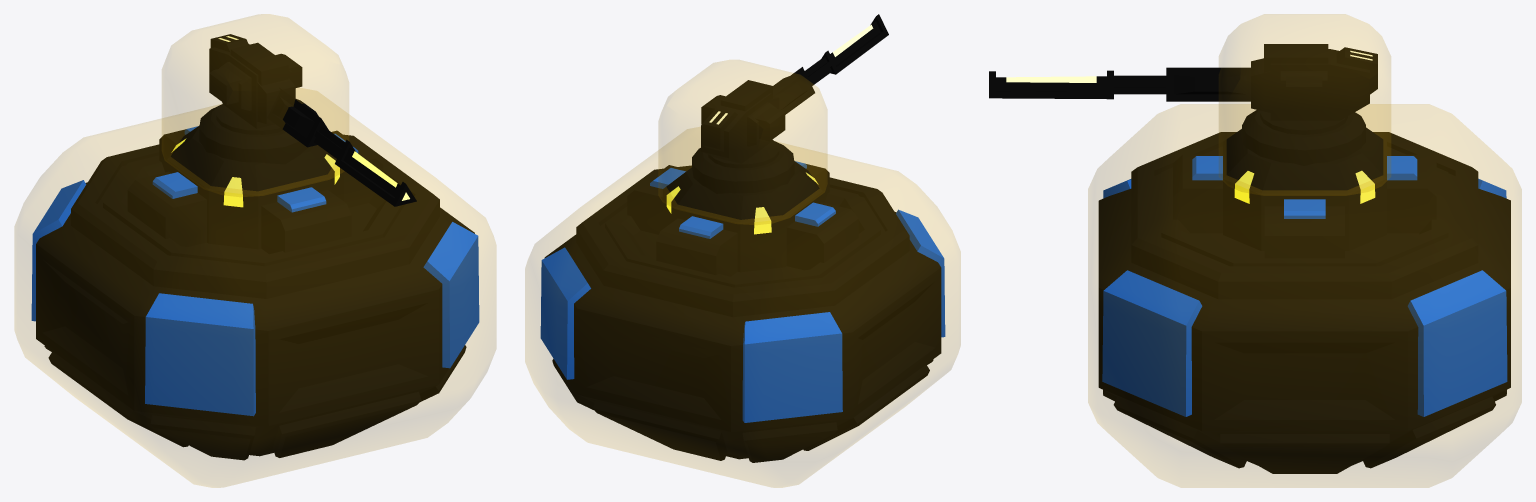
Rendered from 01_turret_dustPiercer.glb.
3 views of the same model, side by side, from view 1: azimuth 30°, elevation 25°; view 2: azimuth 150°, elevation 25°; view 3: azimuth 270°, elevation 25° (orthographic). The views are drawn at different scales.
Parts seen in each view (by area): view 1: 01_turretbase_burstgun_aegis, 01_turretbase_burstgun, 01_weapon_dustPiercer_body, 01_weapon_dustPiercer_barrel; view 2: 01_turretbase_burstgun_aegis, 01_turretbase_burstgun, 01_weapon_dustPiercer_body, 01_weapon_dustPiercer_barrel; view 3: 01_turretbase_burstgun_aegis, 01_turretbase_burstgun, 01_weapon_dustPiercer_body, 01_weapon_dustPiercer_barrel.
Boxes of the visible parts, left/top/right/bottom form: 01_turretbase_burstgun_aegis: left=15, top=14, right=495, bottom=487; 01_turretbase_burstgun: left=31, top=125, right=479, bottom=460; 01_weapon_dustPiercer_body: left=199, top=34, right=308, bottom=164; 01_weapon_dustPiercer_barrel: left=257, top=78, right=416, bottom=206; 01_turretbase_burstgun_aegis: left=525, top=60, right=960, bottom=487; 01_turretbase_burstgun: left=540, top=161, right=945, bottom=462; 01_weapon_dustPiercer_body: left=692, top=80, right=794, bottom=193; 01_weapon_dustPiercer_barrel: left=771, top=14, right=888, bottom=114; 01_turretbase_burstgun_aegis: left=1088, top=14, right=1521, bottom=487; 01_turretbase_burstgun: left=1098, top=127, right=1510, bottom=473; 01_weapon_dustPiercer_body: left=1242, top=44, right=1377, bottom=165; 01_weapon_dustPiercer_barrel: left=989, top=58, right=1270, bottom=112.
Bounding box in the file's own units: 1.05 × 1.08 × 1.29.
